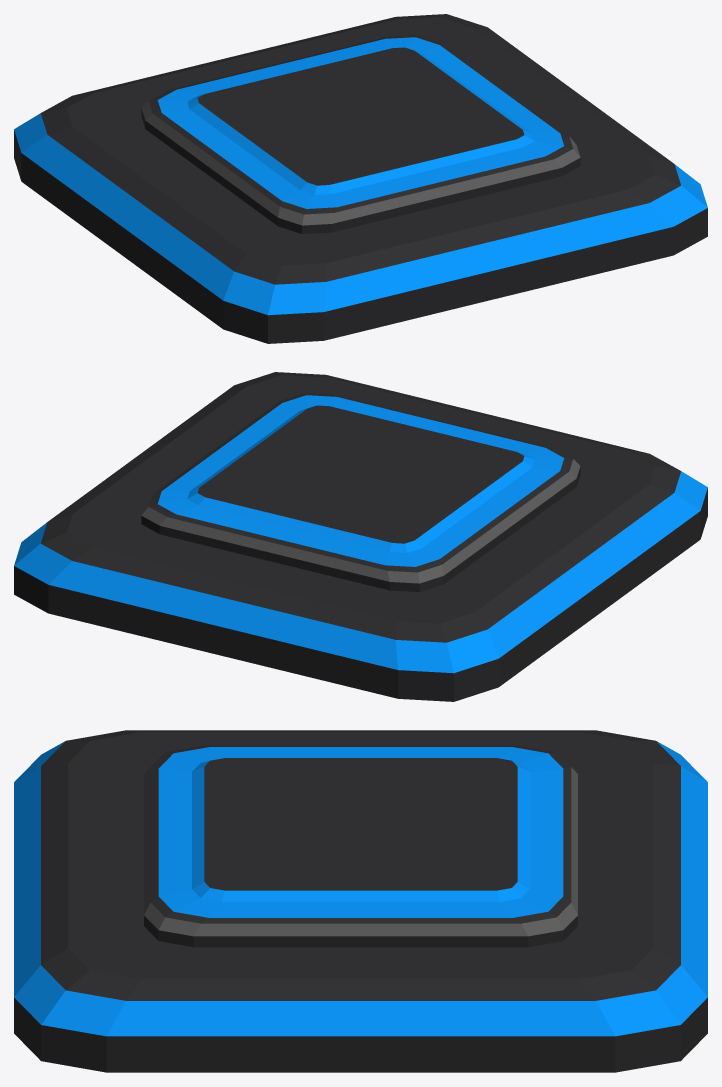
File: Bounce.fbx
The picture shows the model from 3 angles, top to bottom: view 1: azimuth 30°, elevation 25°; view 2: azimuth 150°, elevation 25°; view 3: azimuth 270°, elevation 25°; orthographic projection. The views are drawn at different scales.
Visible parts, largest first — view 1: Bounce; view 2: Bounce; view 3: Bounce.
Part boxes in pixels (bbox=[...]): Bounce: bbox=[14, 14, 707, 343]; Bounce: bbox=[14, 372, 707, 701]; Bounce: bbox=[14, 730, 707, 1072].
Bounding box in the file's own units: 48.44 × 8.67 × 48.44.
